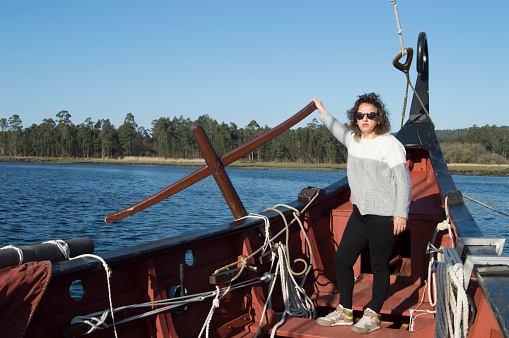em pe: (264, 76, 432, 338)
